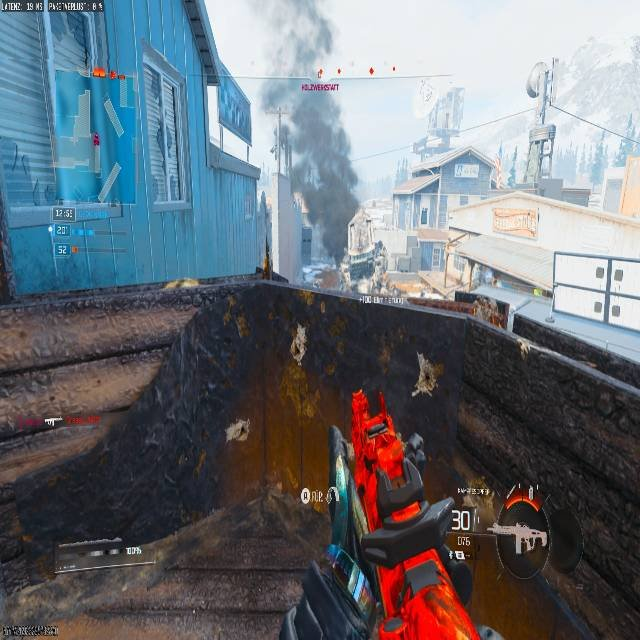head: (375, 239, 383, 249)
player: (369, 239, 387, 288)
